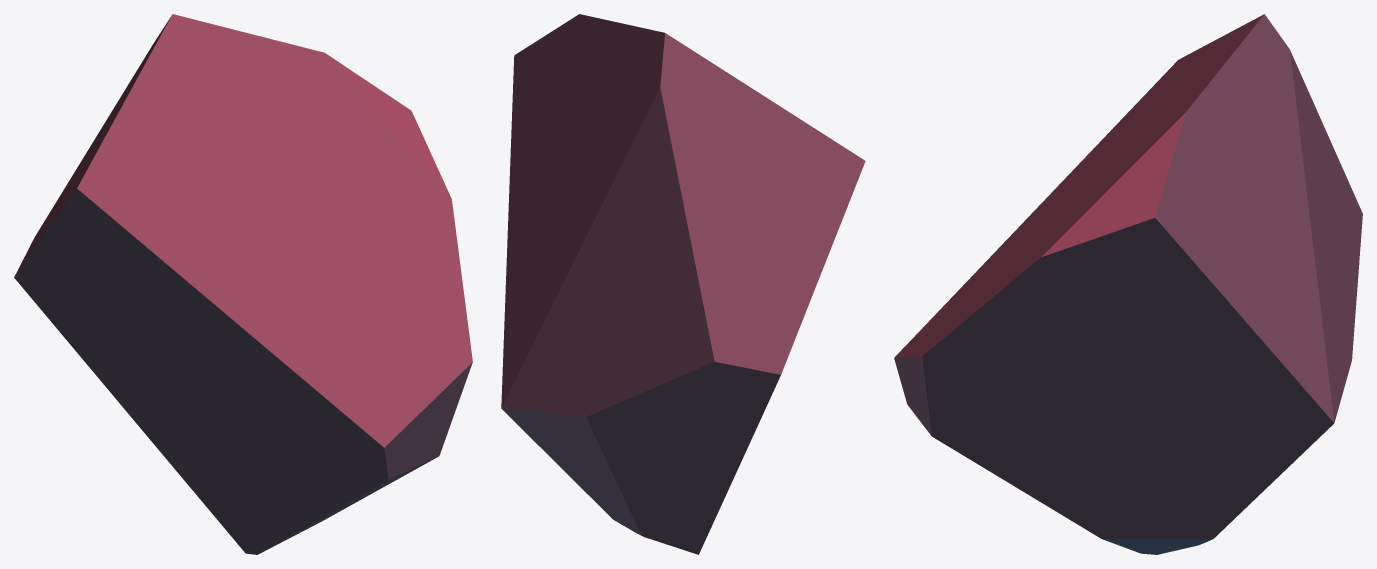
The model's file is geology-crystals-gemstone_v4.glb.
3 renders of one model, left to right at view 1: azimuth 30°, elevation 25°; view 2: azimuth 150°, elevation 25°; view 3: azimuth 270°, elevation 25°, orthographic. The views are drawn at different scales.
Parts seen in each view (by area): view 1: gemstone_v4; view 2: gemstone_v4; view 3: gemstone_v4.
Part boxes in pixels (x1,y1,x2,y2): gemstone_v4: (14,14,472,554); gemstone_v4: (501,14,865,554); gemstone_v4: (894,14,1362,554).
Size of the model in its own units: 11.79 by 17.66 by 14.16.
